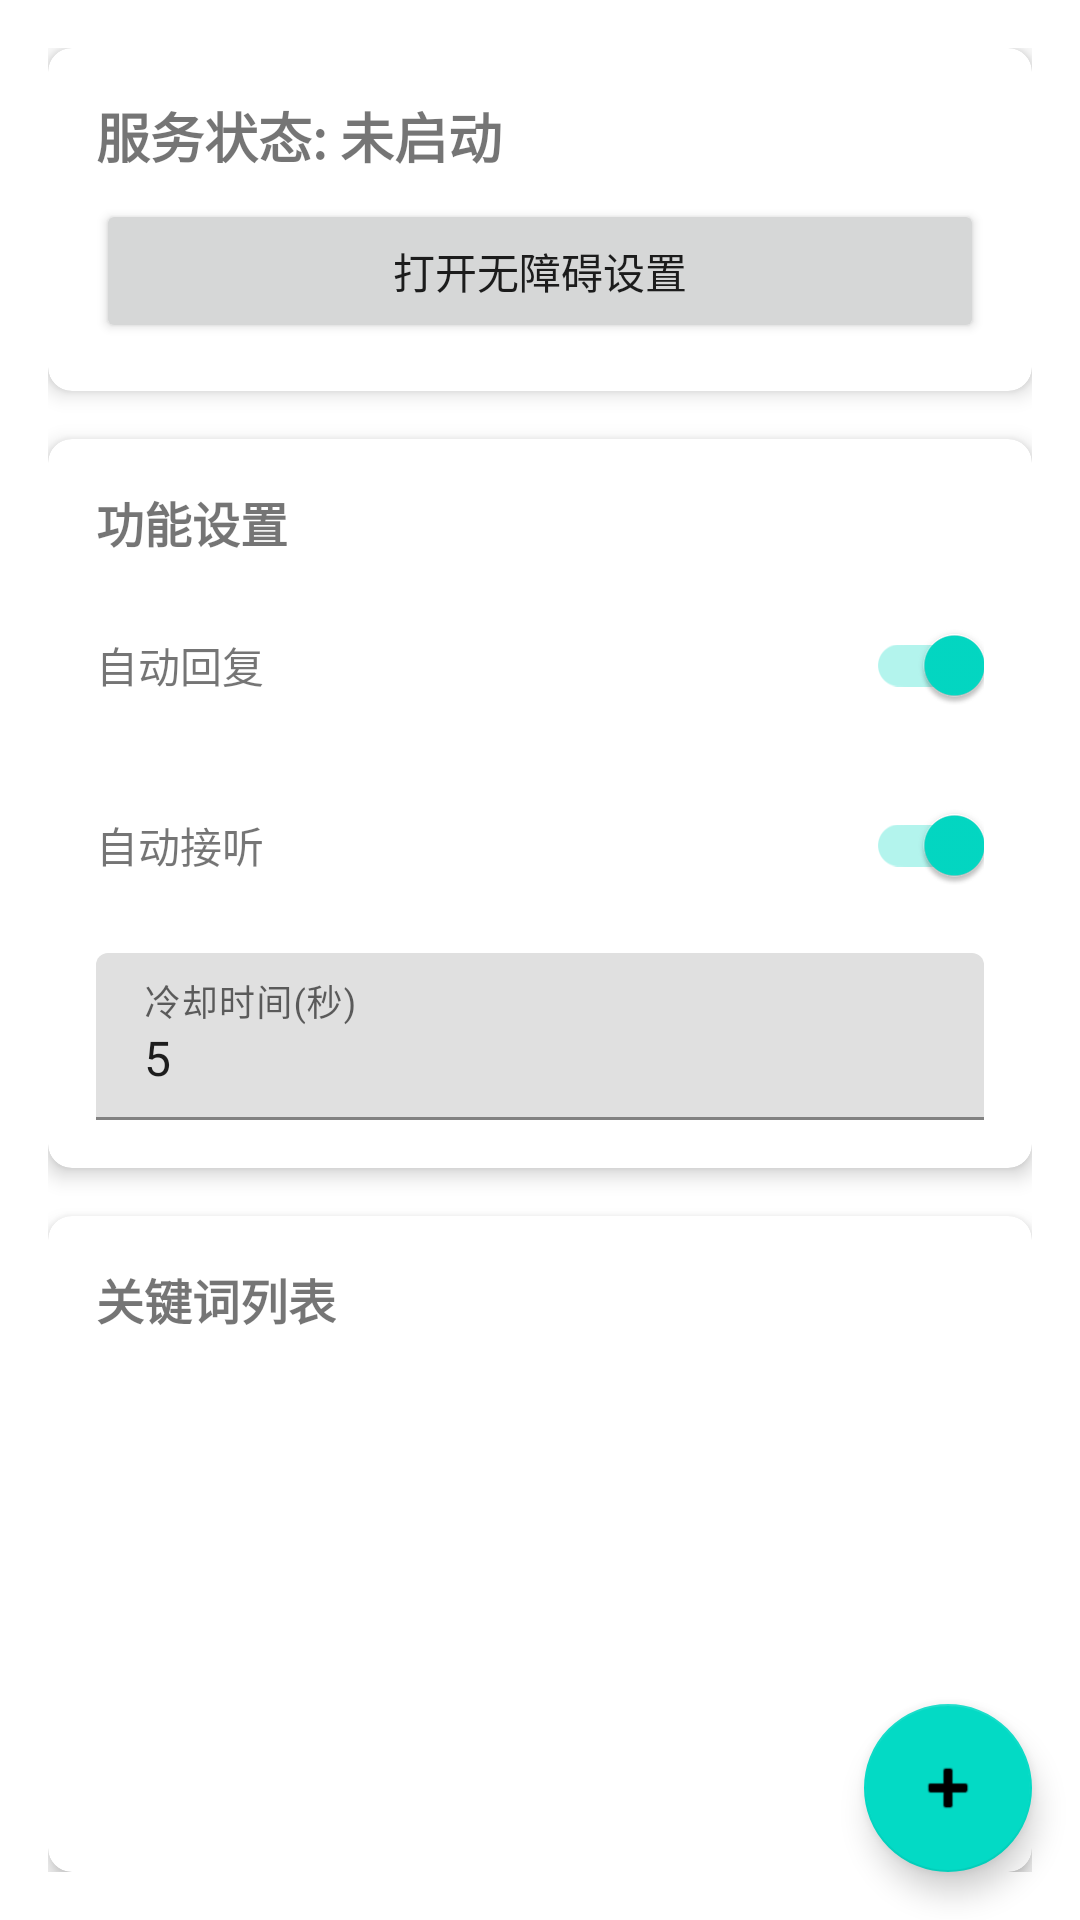

Point at icon controls on the screen. Image size 1080 x 1920, points as (x=x, y=y).
添加关键词: (x=948, y=1788)
